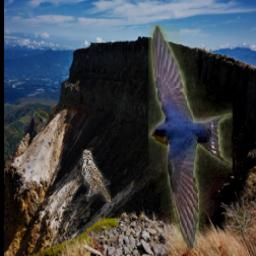Sparrow: (82, 150, 112, 203)
Swallow: (149, 26, 234, 250)
